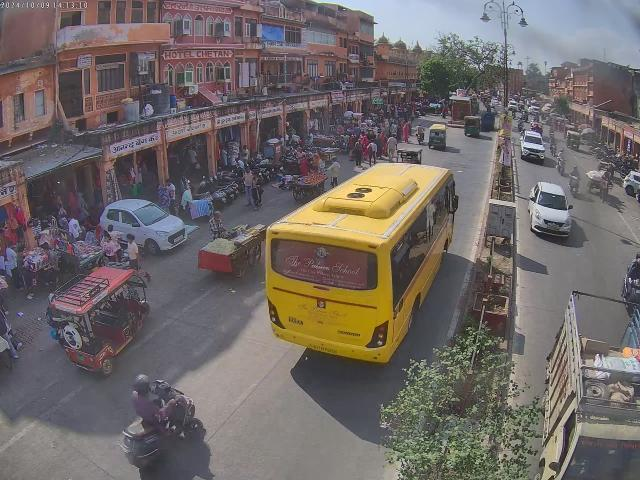auto: (43, 264, 151, 374), (428, 123, 448, 150), (394, 146, 424, 164), (462, 114, 480, 138), (565, 130, 582, 150)
bus: (263, 160, 458, 380)
car: (526, 180, 572, 239), (519, 132, 547, 164)
helmet: (132, 372, 150, 386)
license_plate: (311, 344, 337, 356), (548, 226, 560, 231)
lorry: (540, 290, 640, 480)
person: (0, 241, 19, 280), (156, 178, 176, 210), (206, 210, 226, 238), (0, 266, 11, 311), (178, 175, 193, 207), (327, 157, 341, 186), (66, 215, 82, 240)
rickshow: (586, 168, 610, 199)
scooty-rider: (122, 373, 200, 474), (620, 250, 640, 316), (554, 151, 568, 177), (568, 166, 580, 196)
vendor: (197, 227, 261, 280), (292, 170, 332, 204)
